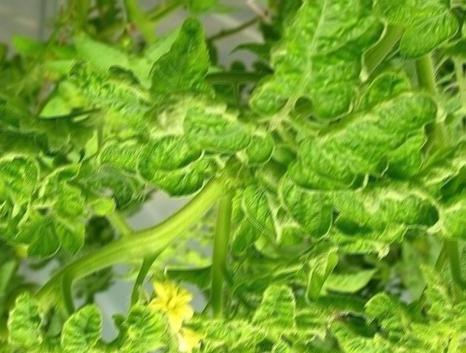Tomato leaf yellow virus: (109, 92, 278, 197), (279, 149, 449, 243), (309, 75, 447, 182), (261, 0, 379, 123), (182, 259, 329, 349), (143, 10, 230, 110), (327, 308, 419, 353), (96, 299, 171, 353), (233, 181, 297, 236), (2, 281, 50, 353), (0, 148, 46, 220), (57, 291, 111, 352)
